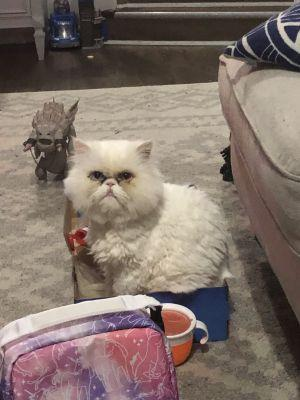persian: (62, 128, 162, 229)
